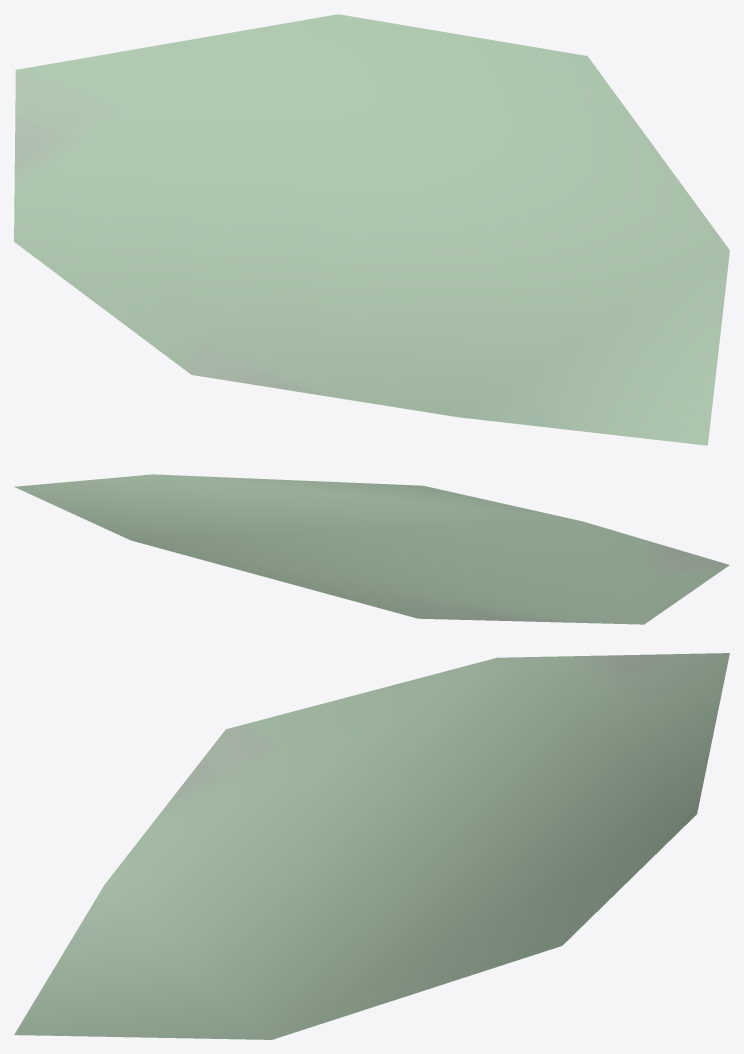
File: TROLLHOLE02_HOLECAP204.fbx
3 views of the same model, one above another, from view 1: azimuth 30°, elevation 25°; view 2: azimuth 150°, elevation 25°; view 3: azimuth 270°, elevation 25° (orthographic). The views are drawn at different scales.
Parts seen in each view (by area): view 1: TROLLHOLE02_HOLECAP204; view 2: TROLLHOLE02_HOLECAP204; view 3: TROLLHOLE02_HOLECAP204.
Part boxes in pixels (left/top/right/bottom): TROLLHOLE02_HOLECAP204: left=14, top=14, right=729, bottom=445; TROLLHOLE02_HOLECAP204: left=14, top=474, right=729, bottom=624; TROLLHOLE02_HOLECAP204: left=14, top=653, right=729, bottom=1039.
Size of the model in its own units: 9920 by 3197 by 9878.
Materials: 1 (1 with a texture image).
